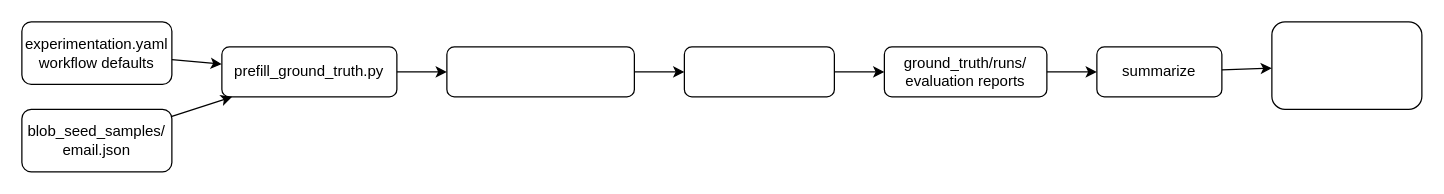
This 1444x194 diagram has some shape labels left out. The shapes that lost their labels are listed below. From the top down, each one's centre as x and y in pixels, then its label:
At point (540, 71): "Review sample files update ground_truth.json".
At point (758, 71): "evaluate / run".
At point (1346, 65): "summaries/ runs_summary.csv field_metrics.csv sample_diffs.csv".
